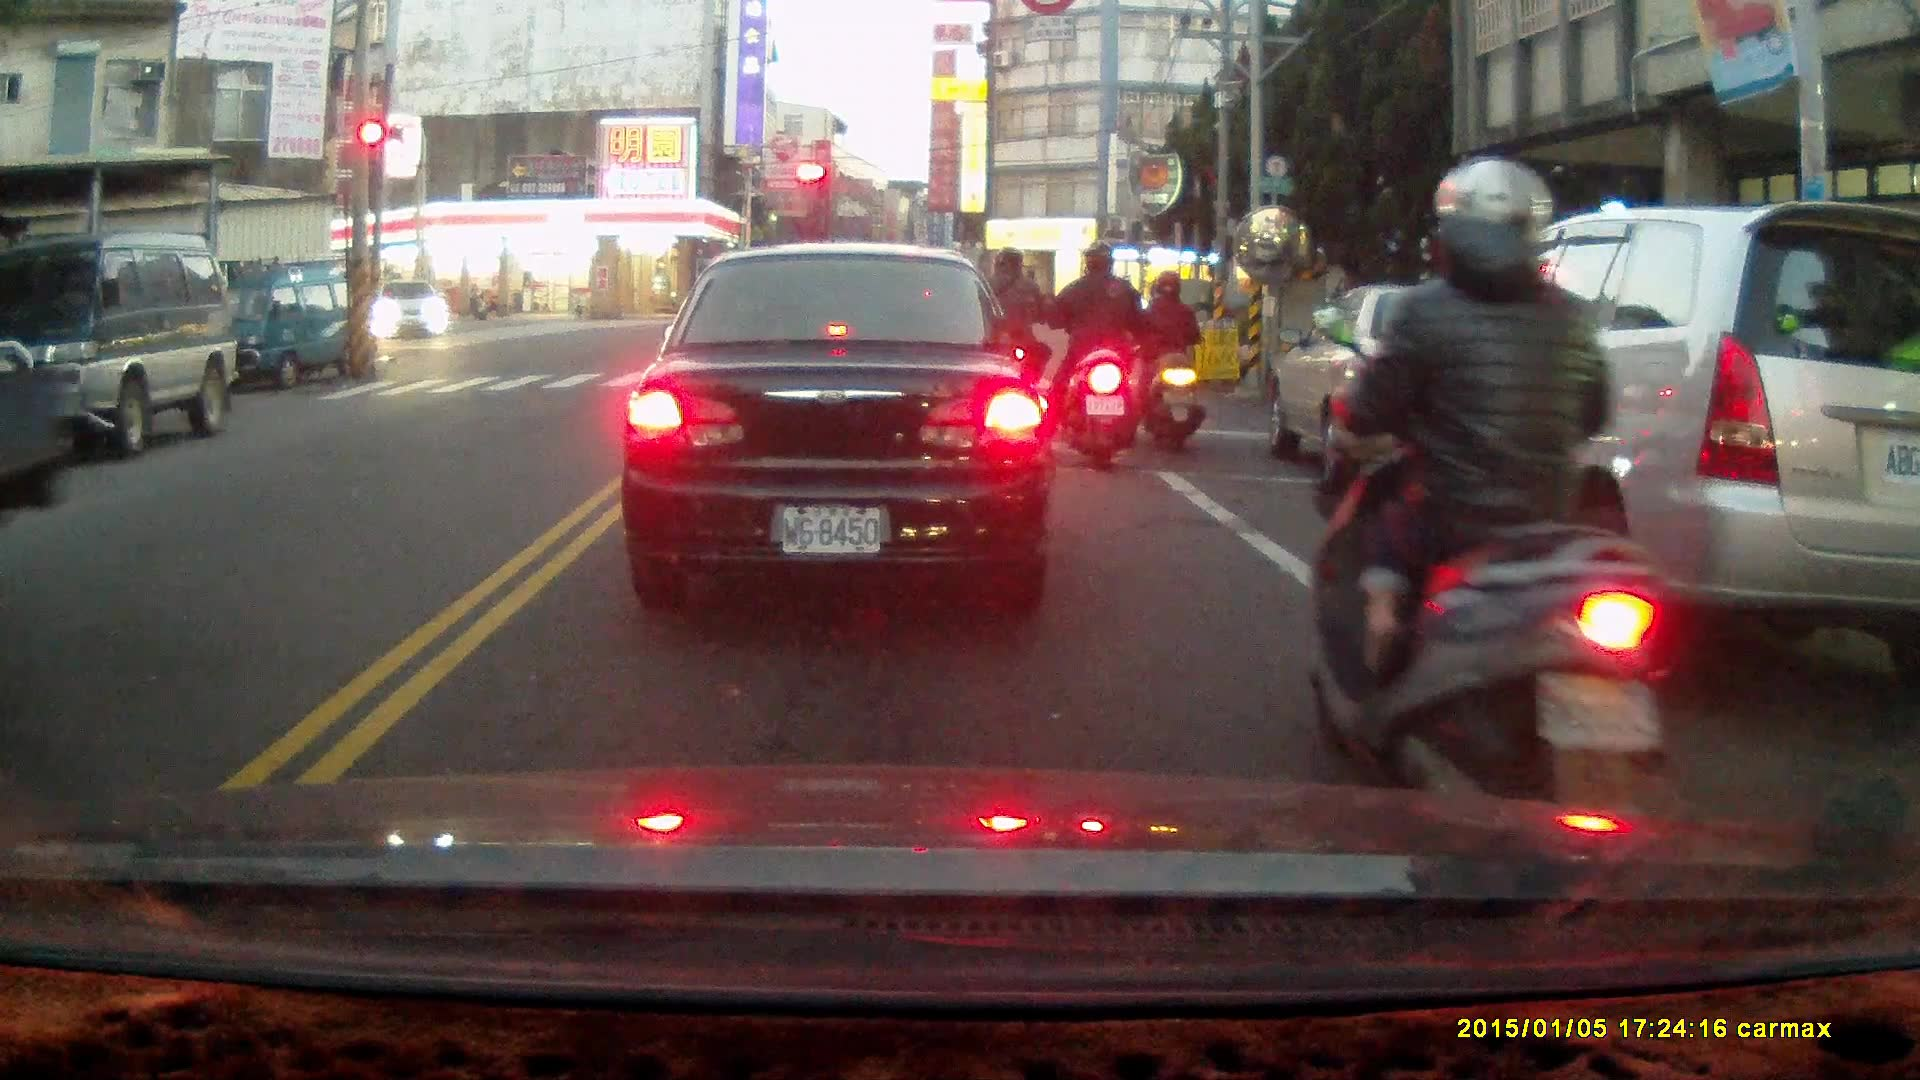rider: (1304, 154, 1673, 878), (1048, 242, 1141, 468), (963, 251, 1049, 432), (1135, 270, 1205, 451)
vehicle: (1377, 198, 1920, 687), (637, 247, 1048, 598), (1264, 286, 1602, 492), (5, 234, 242, 455), (190, 262, 382, 394), (372, 277, 451, 343)
